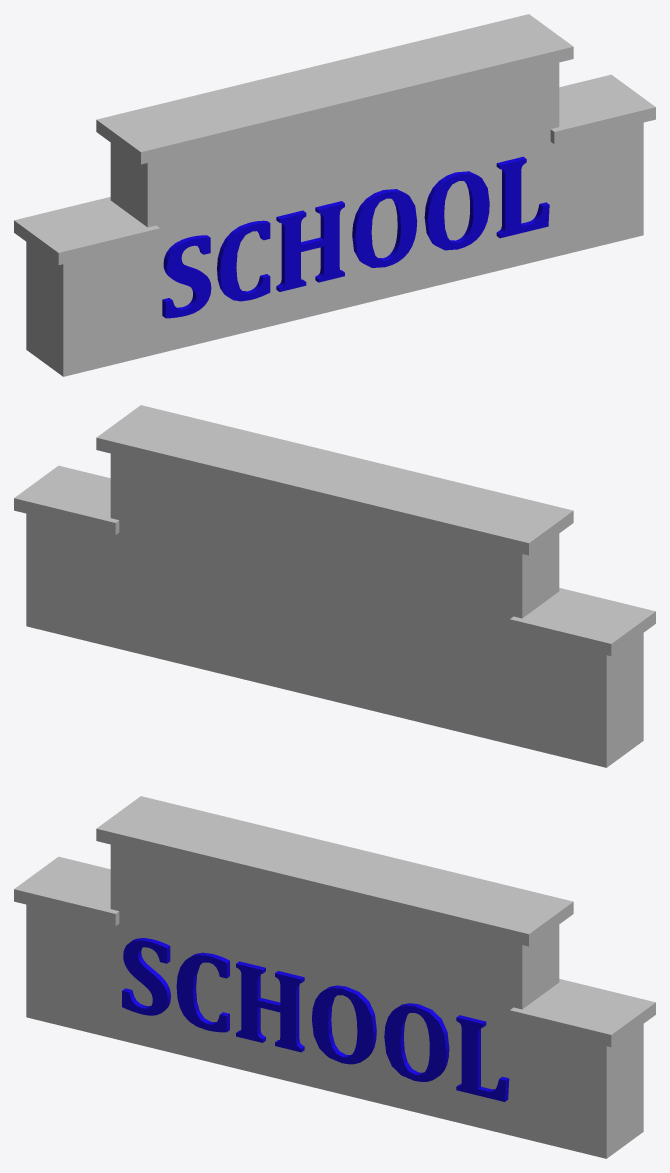
The model's file is School_Sign.gltf.
3 renders of one model, top to bottom at view 1: azimuth 30°, elevation 25°; view 2: azimuth 150°, elevation 25°; view 3: azimuth 330°, elevation 25°, orthographic.
Visible parts, largest first — view 1: School_Sign; view 2: School_Sign; view 3: School_Sign.
Boxes of the visible parts, x1,y1,x2,y2 form: School_Sign: [14, 14, 655, 376]; School_Sign: [14, 405, 655, 767]; School_Sign: [14, 796, 655, 1158].
Bounding box in the file's own units: 3.43 × 1.15 × 0.4438.
